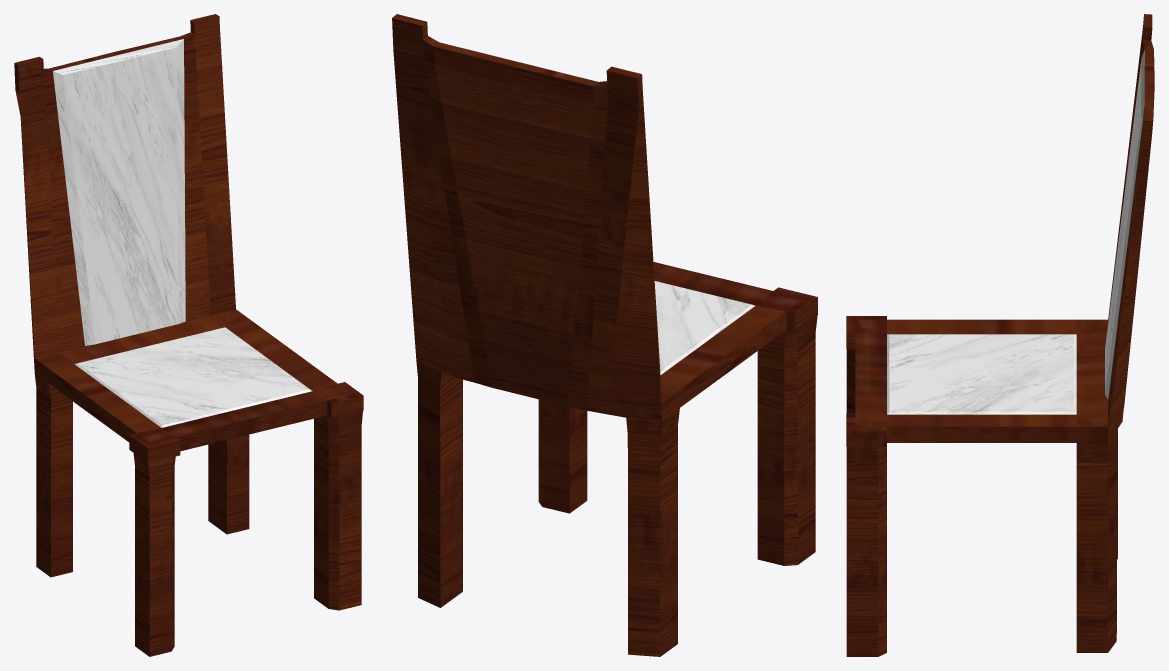
Rendered from chair.fbx.
The picture shows the model from 3 angles, left to right: view 1: azimuth 30°, elevation 25°; view 2: azimuth 150°, elevation 25°; view 3: azimuth 270°, elevation 25°; orthographic projection. The views are drawn at different scales.
Parts seen in each view (by area): view 1: Cube, Cube.001; view 2: Cube, Cube.001; view 3: Cube, Cube.001.
Part boxes in pixels (bbox=[...]): Cube: bbox=[14, 14, 363, 656]; Cube.001: bbox=[53, 39, 312, 427]; Cube: bbox=[392, 14, 817, 656]; Cube.001: bbox=[654, 281, 755, 374]; Cube: bbox=[846, 14, 1154, 656]; Cube.001: bbox=[887, 49, 1144, 414].
Size of the model in its own units: 150 by 326 by 171.
2 materials, 2 textured.
